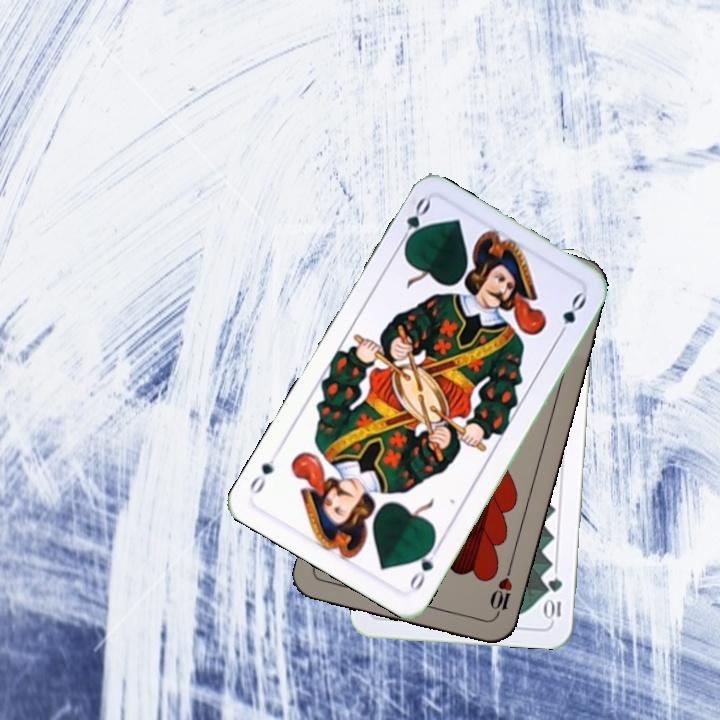G10: (543, 573, 565, 623)
GO: (394, 194, 433, 251), (405, 538, 444, 594)
H10: (485, 563, 515, 621)
